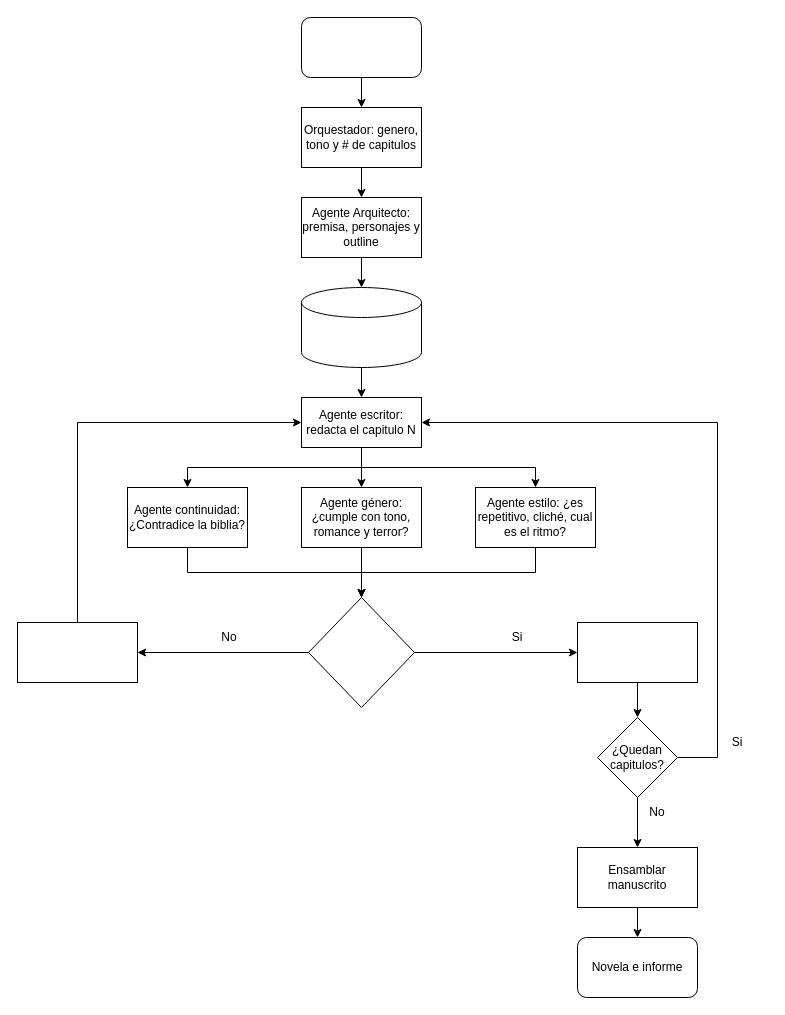
This 785x1015 diagram has some shape labels left out. Here are the shapes that lost their labels. From the top down, the box of each, then its label:
(300, 16, 422, 78): Inicio
(300, 286, 422, 368): Biblia de la novela: personajes, timeline y hechos
(16, 622, 138, 682): Reescribir con lista de problemas
(308, 596, 414, 708): Orquestador, ¿todos pasan?
(576, 622, 698, 682): Actualizar biblia con hechos
